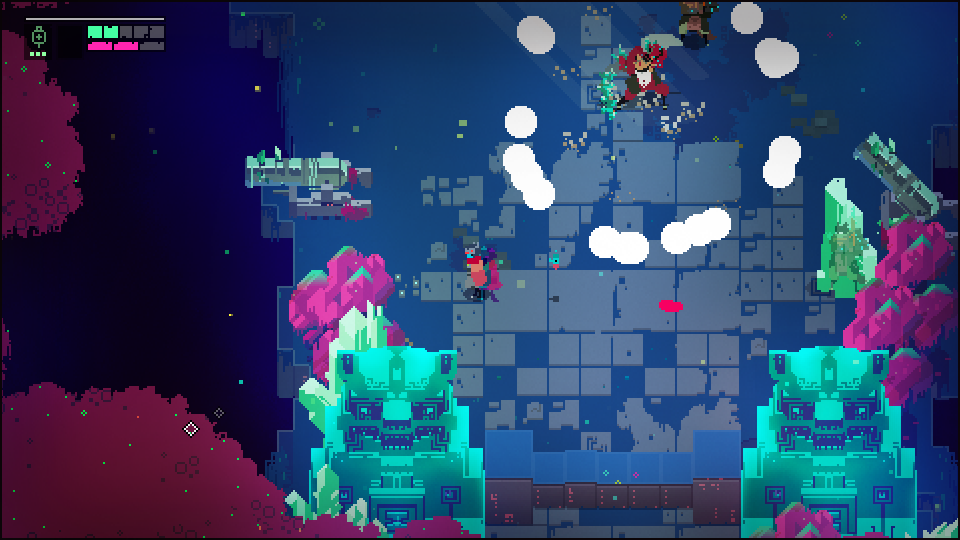hanged_man: (598, 36, 680, 114)
player: (467, 245, 485, 295)
